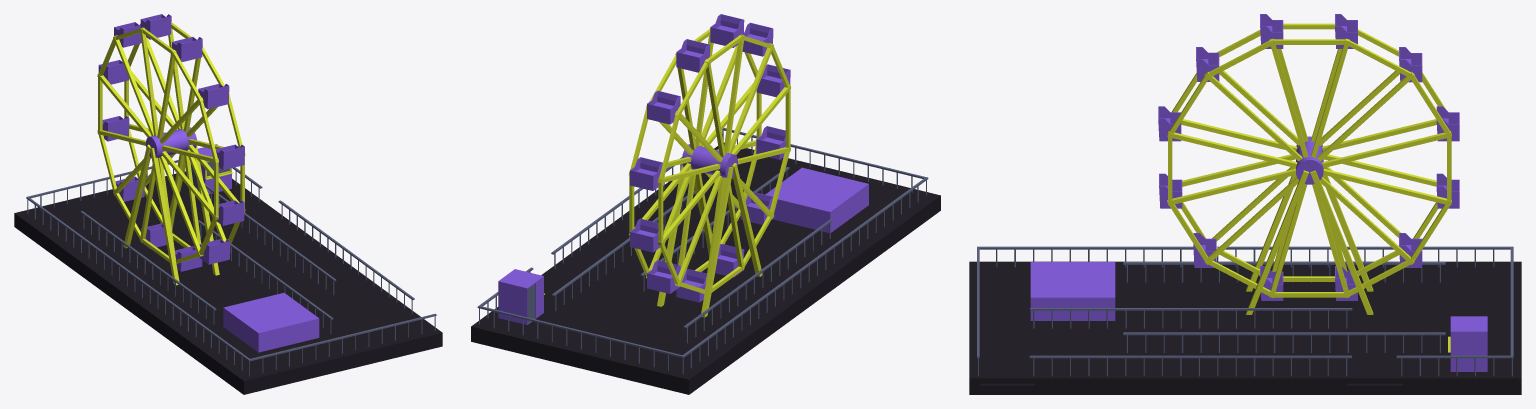
Rendered from Big_Wheel_colored.glb.
3 views of the same model, side by side, from view 1: azimuth 30°, elevation 25°; view 2: azimuth 150°, elevation 25°; view 3: azimuth 270°, elevation 25° (orthographic). The views are drawn at different scales.
Visible parts, largest first — view 1: Cube.020, Cube.032, Cube.006, Cube.005, Cube.004, Cube.019, Cube.002, Cube.001, Cube.024, Cube.003, Cylinder, Cube.021 (+18 smaller); view 2: Cube.020, Cube.032, Cube.006, Cube.005, Cube.004, Cube.019, Cube.021, Cube.002, Cube.001, Cube.003, Cube.024, Cylinder (+17 smaller); view 3: Cube.020, Cube.004, Cube.005, Cube.032, Cube.006, Cube.019, Cube.001, Cube.002, Cube.021, Cube.024, Cube, Cube.029 (+15 smaller).
Boxes of the visible parts, left/top/right/bottom form: Cube.020: left=14, top=171, right=442, bottom=394; Cube.032: left=223, top=293, right=319, bottom=352; Cube.006: left=140, top=27, right=202, bottom=259; Cube.005: left=113, top=35, right=229, bottom=257; Cube.004: left=97, top=72, right=245, bottom=219; Cube.019: left=123, top=144, right=219, bottom=285; Cube.002: left=98, top=39, right=242, bottom=255; Cube.001: left=115, top=29, right=224, bottom=263; Cube.024: left=26, top=196, right=251, bottom=361; Cube.003: left=98, top=77, right=244, bottom=216; Cylinder: left=146, top=127, right=196, bottom=157; Cube.021: left=190, top=144, right=232, bottom=194; Cube.020: left=471, top=142, right=940, bottom=394; Cube.032: left=765, top=167, right=868, bottom=232; Cube.006: left=675, top=28, right=744, bottom=289; Cube.005: left=645, top=43, right=773, bottom=286; Cube.004: left=628, top=83, right=790, bottom=245; Cube.019: left=657, top=163, right=762, bottom=317; Cube.021: left=498, top=269, right=544, bottom=324; Cube.002: left=630, top=47, right=789, bottom=284; Cube.001: left=649, top=36, right=771, bottom=293; Cube.003: left=629, top=89, right=790, bottom=241; Cube.024: left=681, top=177, right=928, bottom=357; Cylinder: left=682, top=144, right=737, bottom=177; Cube.020: left=969, top=261, right=1521, bottom=394; Cube.004: left=1167, top=119, right=1451, bottom=205; Cube.005: left=1204, top=70, right=1414, bottom=264; Cube.032: left=1030, top=262, right=1115, bottom=320; Cube.006: left=1269, top=38, right=1349, bottom=297; Cube.019: left=1246, top=170, right=1373, bottom=314; Cube.001: left=1208, top=29, right=1410, bottom=296; Cube.002: left=1169, top=72, right=1450, bottom=261; Cube.021: left=1448, top=316, right=1487, bottom=371; Cube.024: left=977, top=246, right=1513, bottom=249; Cube: left=1274, top=23, right=1345, bottom=297; Cube.029: left=1123, top=332, right=1445, bottom=335.
Bounding box in the file's own units: 15.26 × 17.9 × 30.
